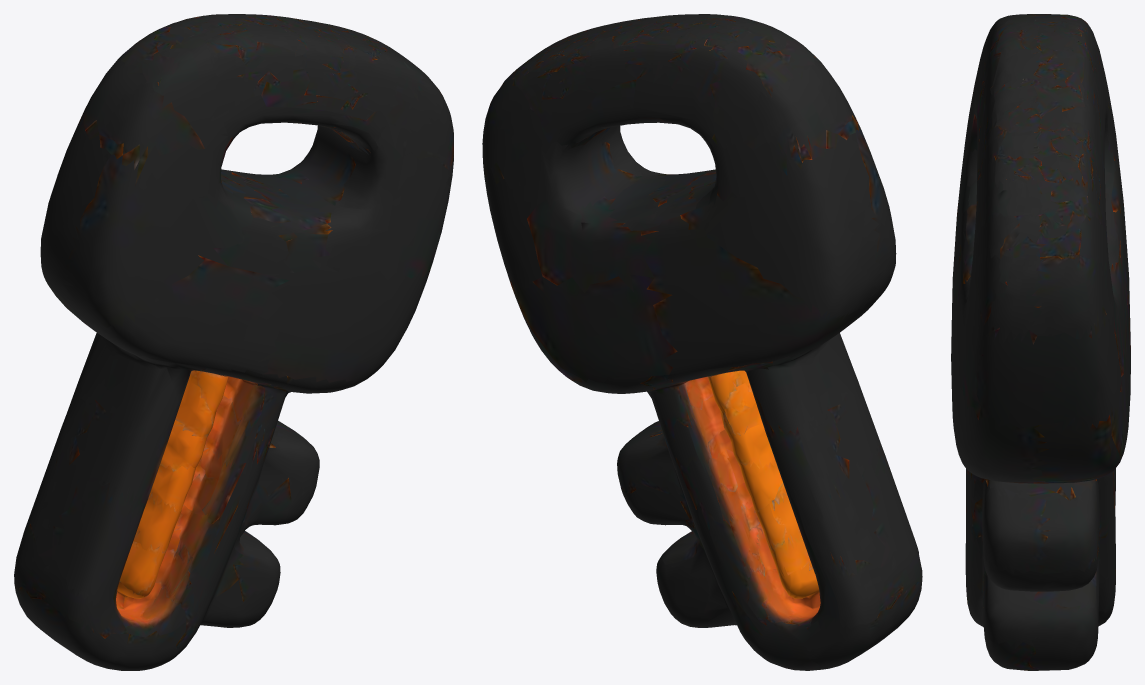
File: key-t4-v1.glb
3 views of the same model, side by side, from view 1: azimuth 30°, elevation 25°; view 2: azimuth 150°, elevation 25°; view 3: azimuth 270°, elevation 25° (orthographic). The views are drawn at different scales.
Parts seen in each view (by area): view 1: mesh_node; view 2: mesh_node; view 3: mesh_node.
Boxes of the visible parts, bbox=[...] form: mesh_node: bbox=[14, 14, 453, 670]; mesh_node: bbox=[482, 14, 922, 670]; mesh_node: bbox=[951, 14, 1130, 670].
Size of the model in its own units: 1.32 by 1.9 by 0.484.
Materials: 1 (1 with a texture image).
